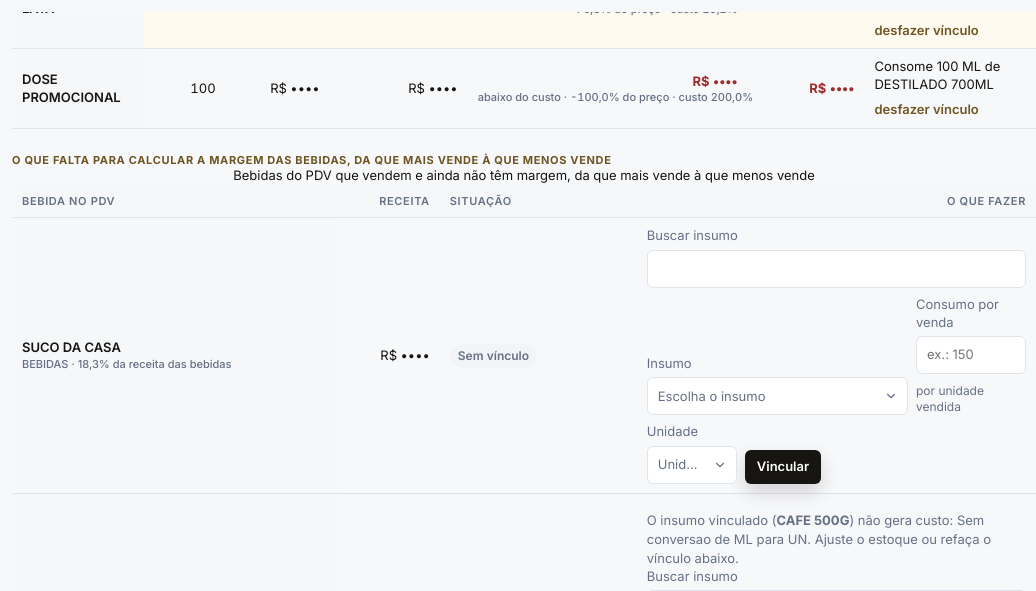
it: MargemBebidasPanel: o que falta › quantidade e unidade comecam vazias: nao existe padrao de 1 UN que grave a garrafa inteira por taca
The width and height of the screenshot is (1036, 591).
(page scrolled)
expect the field named "Quanto uma venda de SUCO DA CASA consome" is empty: met, box 916,336 -> 1026,374
expect the dropdown named "Unidade do consumo de SUCO DA CASA" shows "Unidade": met, box 647,446 -> 737,484
Select "VINHO 750ML (UN)" in the dropdown named "Insumo comprado para SUCO DA CASA". click: (777, 396)
box: 647,377 -> 908,415
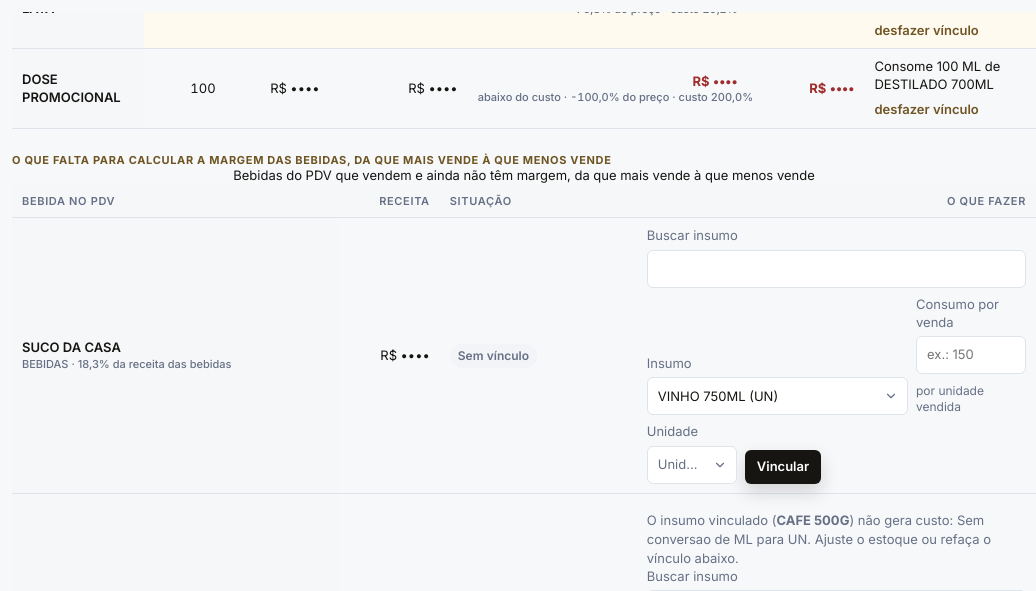
Click the button with aria-label "Vincular SUCO DA CASA". click: (783, 467)
box: 745,450 -> 821,484
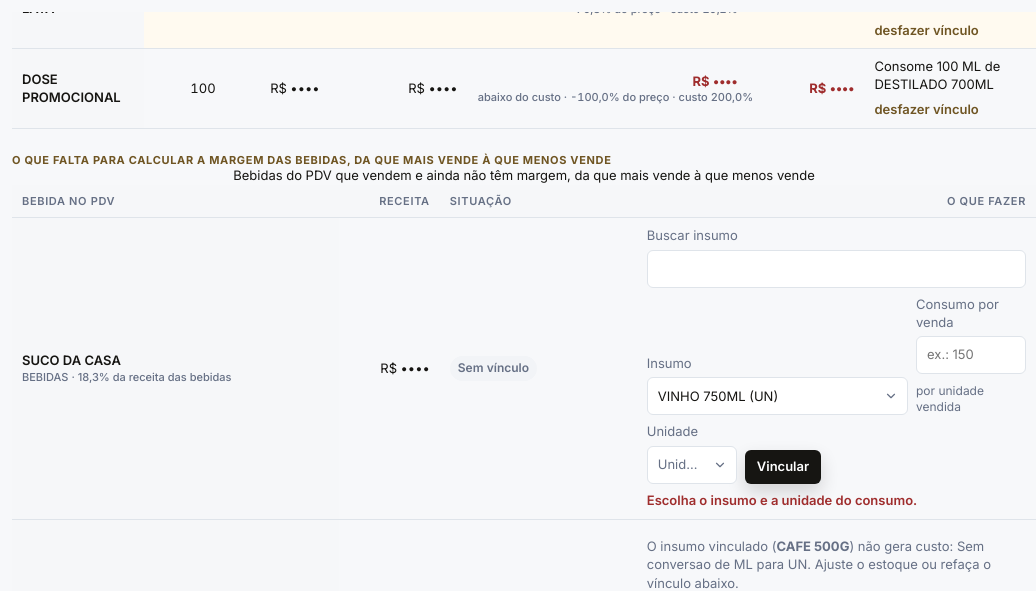
expect the message shows "Escolha o insumo e a unidade": met, box 647,492 -> 917,508
